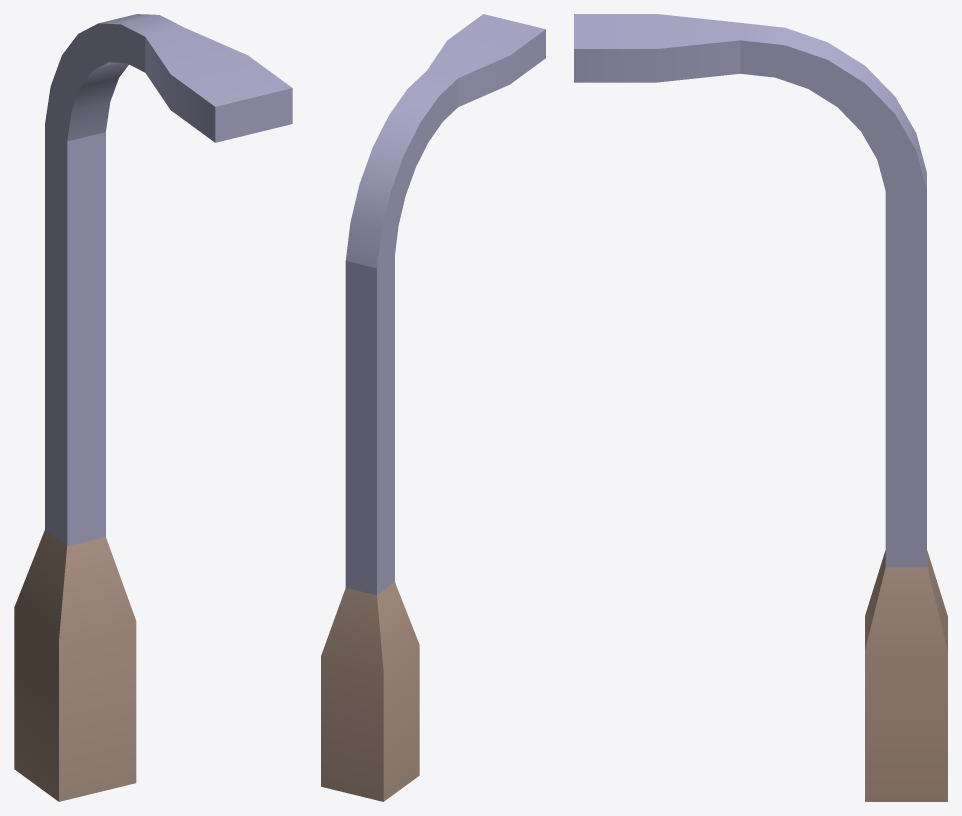
The model's file is lightpost.fbx.
The picture shows the model from 3 angles, left to right: view 1: azimuth 30°, elevation 25°; view 2: azimuth 150°, elevation 25°; view 3: azimuth 270°, elevation 25°; orthographic projection. The views are drawn at different scales.
Parts seen in each view (by area): view 1: lightpost_round%; view 2: lightpost_round%; view 3: lightpost_round%.
Boxes of the visible parts, box(x1,y1,x2,y2) form: lightpost_round%: box(14, 14, 292, 801); lightpost_round%: box(321, 14, 545, 801); lightpost_round%: box(574, 14, 947, 801).
Bounding box in the file's own units: 3 × 30 × 13.5.
